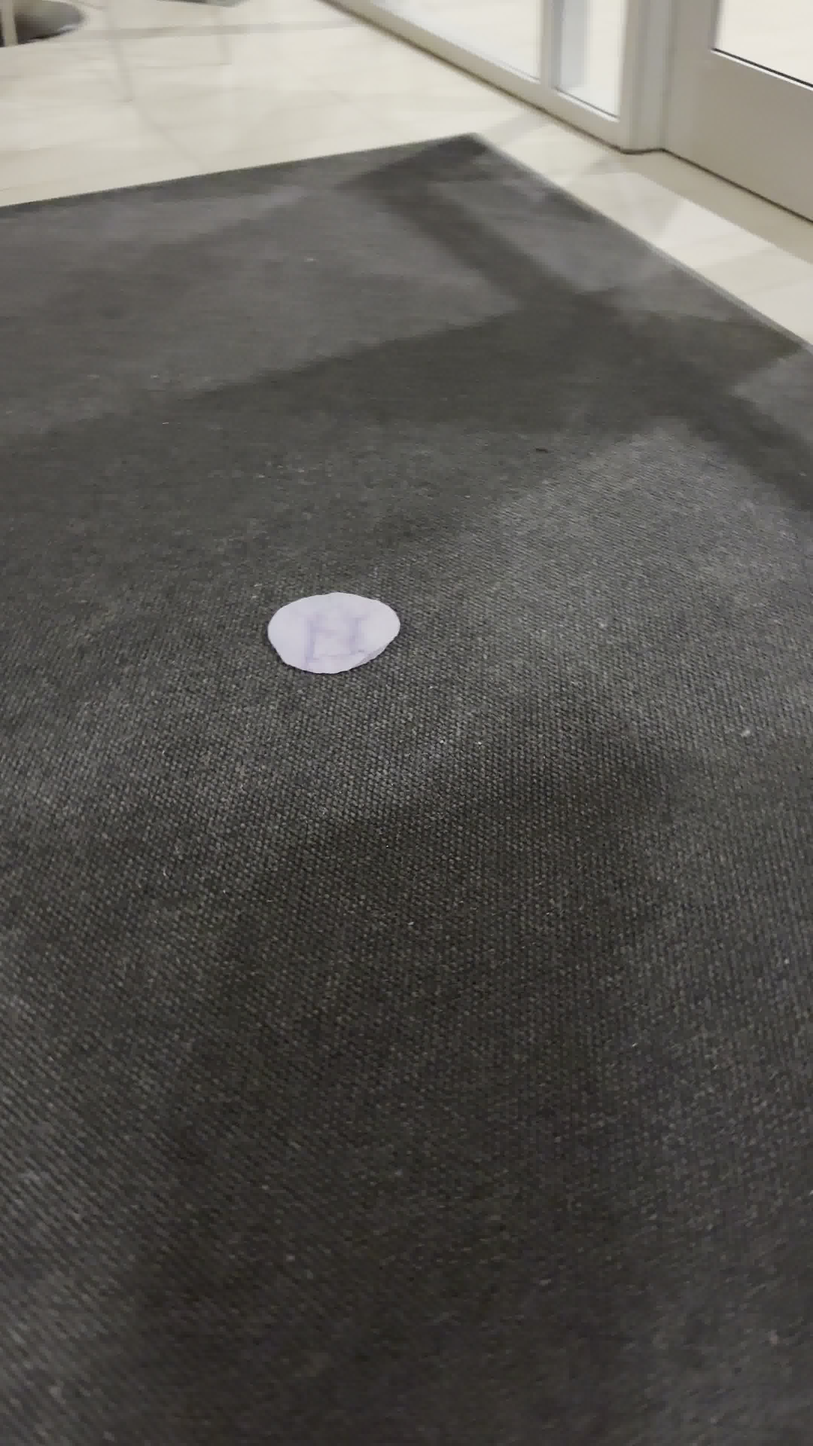Target: (267, 592, 400, 674)
